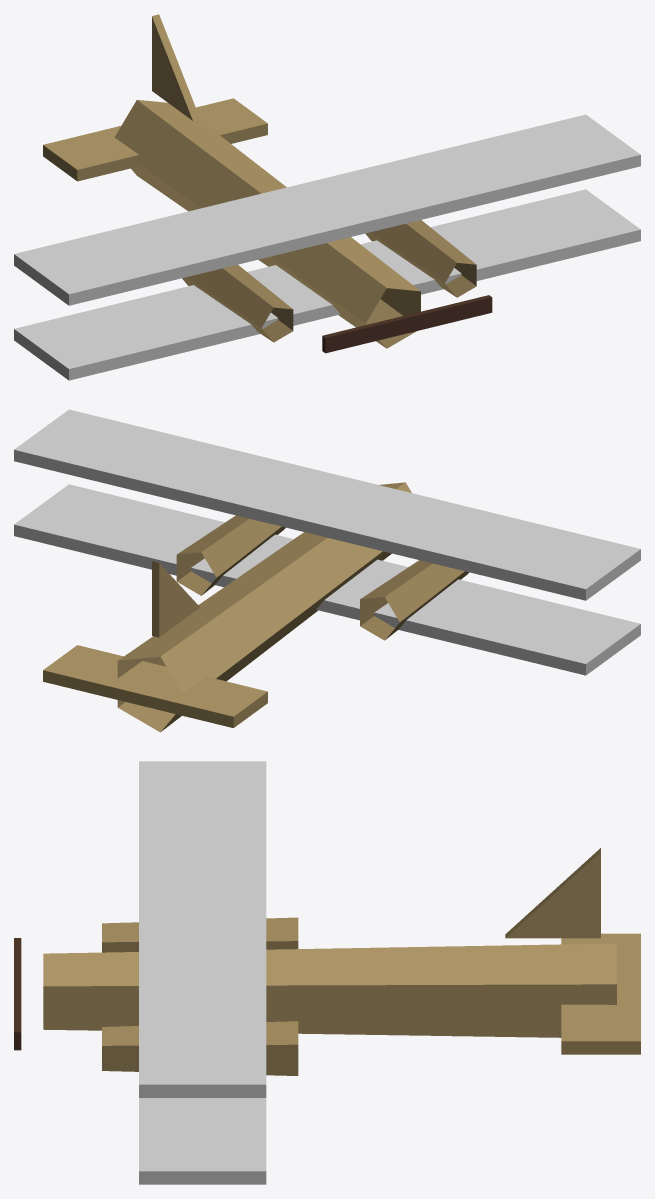
Rendered from Great War Bomber.glb.
3 renders of one model, top to bottom at view 1: azimuth 30°, elevation 25°; view 2: azimuth 150°, elevation 25°; view 3: azimuth 270°, elevation 25°, orthographic. The views are drawn at different scales.
Visible parts, largest first — view 1: Units_Great War Bomber; view 2: Units_Great War Bomber; view 3: Units_Great War Bomber.
Boxes of the visible parts, x1=… form: Units_Great War Bomber: x1=14, y1=14, x2=640, y2=380; Units_Great War Bomber: x1=14, y1=409, x2=640, y2=732; Units_Great War Bomber: x1=14, y1=761, x2=640, y2=1184.
Bounding box in the file's own units: 0.312 × 0.0848 × 0.2557.
